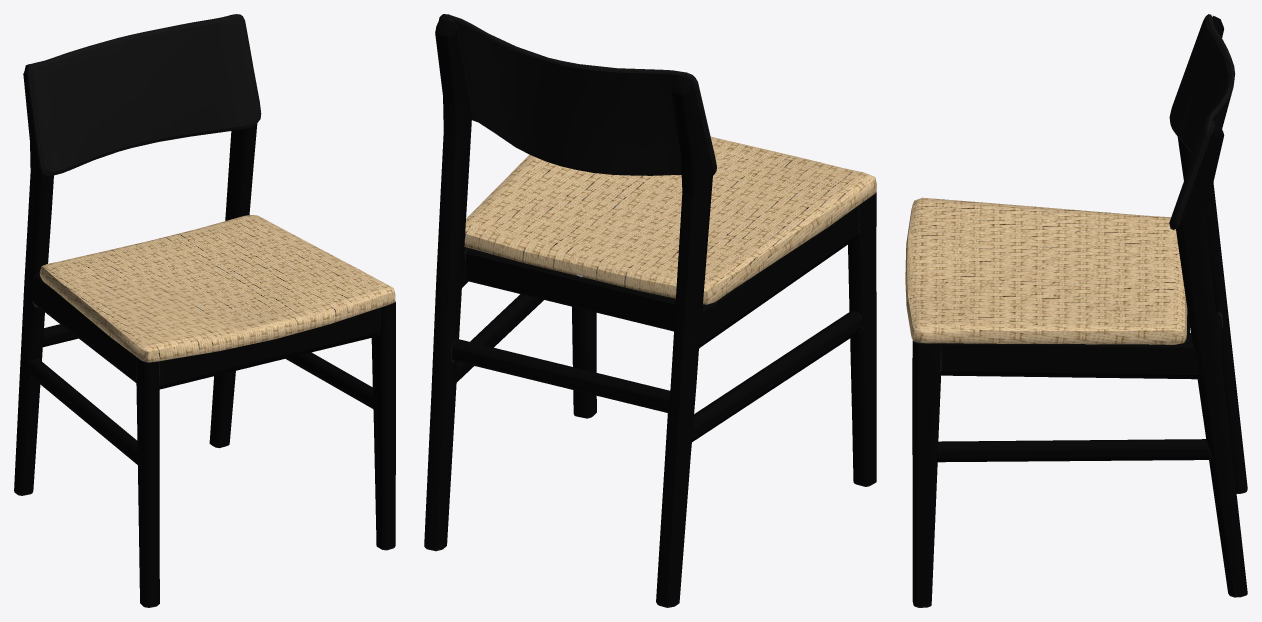
The model's file is skansnaes_chair_black_beech.glb.
The picture shows the model from 3 angles, left to right: view 1: azimuth 30°, elevation 25°; view 2: azimuth 150°, elevation 25°; view 3: azimuth 270°, elevation 25°; orthographic projection. The views are drawn at different scales.
Visible parts, largest first — view 1: 90565768-SKANSNÃƒâ€žS001; view 2: 90565768-SKANSNÃƒâ€žS001; view 3: 90565768-SKANSNÃƒâ€žS001.
Part boxes in pixels (x1=…): 90565768-SKANSNÃƒâ€žS001: x1=14, y1=14, x2=395, y2=607; 90565768-SKANSNÃƒâ€žS001: x1=424, y1=14, x2=876, y2=607; 90565768-SKANSNÃƒâ€žS001: x1=905, y1=14, x2=1247, y2=607.
Bounding box in the file's own units: 0.4783 × 0.7889 × 0.5168.
1 material, 1 textured.
